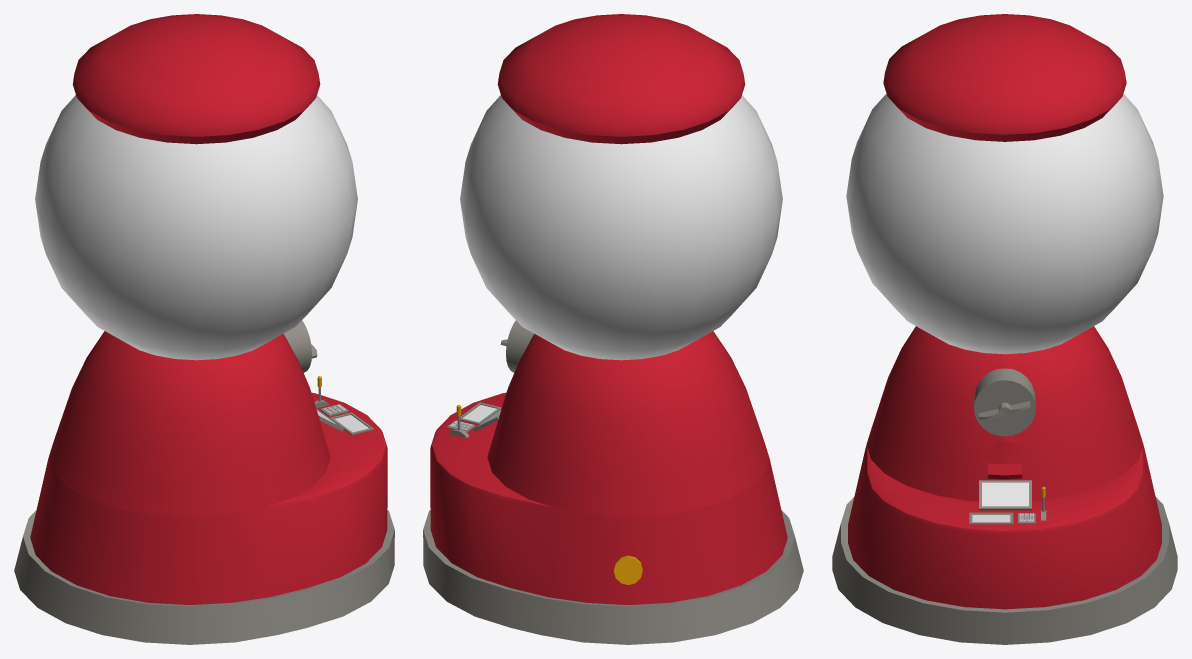
Rendered from substance_machine.fbx.
3 renders of one model, left to right at view 1: azimuth 30°, elevation 25°; view 2: azimuth 150°, elevation 25°; view 3: azimuth 270°, elevation 25°, orthographic.
Visible parts, largest first — view 1: Sphere, Machine_bottom, Machine_upperpart, Sphere_Top, Machine_spincontroll; view 2: Sphere, Machine_bottom, Machine_upperpart, Sphere_Top, Machine_spincontroll, Empty_Button; view 3: Sphere, Machine_bottom, Machine_upperpart, Sphere_Top, Machine_spincontroll, Frame, Display, Cylinder.005.
Part boxes in pixels (bbox=[...]): Sphere: bbox=[35, 95, 357, 360]; Machine_bottom: bbox=[14, 392, 394, 644]; Machine_upperpart: bbox=[48, 331, 330, 516]; Sphere_Top: bbox=[72, 14, 320, 144]; Machine_spincontroll: bbox=[283, 320, 311, 372]; Sphere: bbox=[460, 95, 782, 360]; Machine_bottom: bbox=[423, 392, 803, 644]; Machine_upperpart: bbox=[487, 331, 769, 516]; Sphere_Top: bbox=[497, 14, 745, 144]; Machine_spincontroll: bbox=[506, 320, 534, 372]; Empty_Button: bbox=[613, 555, 642, 584]; Sphere: bbox=[846, 94, 1163, 354]; Machine_bottom: bbox=[832, 445, 1177, 644]; Machine_upperpart: bbox=[866, 326, 1143, 501]; Sphere_Top: bbox=[883, 14, 1126, 141]; Machine_spincontroll: bbox=[974, 368, 1035, 436]; Frame: bbox=[982, 482, 1028, 506]; Display: bbox=[979, 480, 1031, 510]; Cylinder.005: bbox=[979, 401, 1030, 419].
Bounding box in the file's own units: 298 × 460 × 271.
